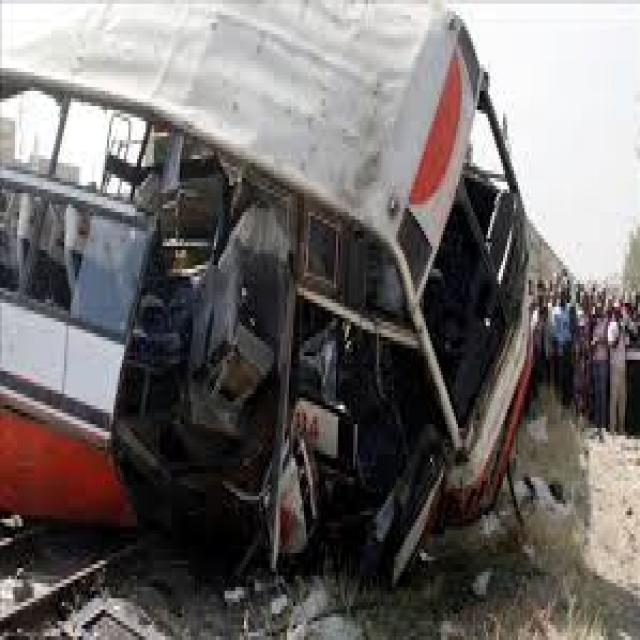accident: (14, 14, 584, 585)
